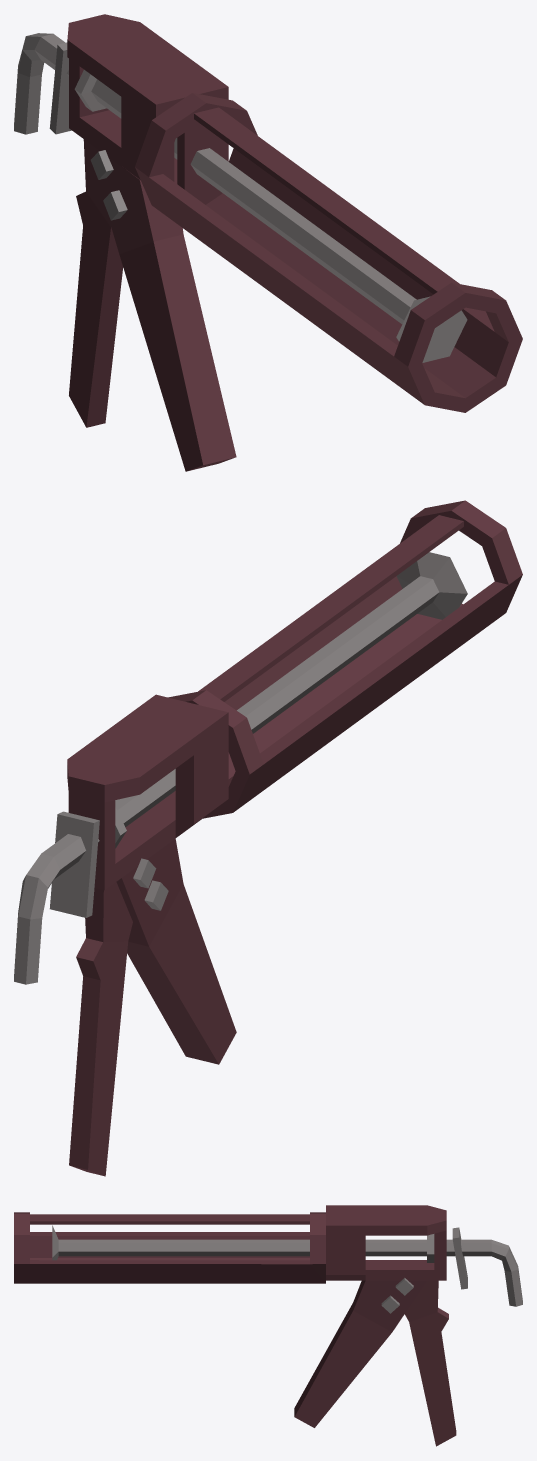
Rendered from caulking-gun.fbx.
3 renders of one model, top to bottom at view 1: azimuth 30°, elevation 25°; view 2: azimuth 150°, elevation 25°; view 3: azimuth 270°, elevation 25°, orthographic. The views are drawn at different scales.
Parts seen in each view (by area): view 1: caulking-gun; view 2: caulking-gun; view 3: caulking-gun.
Boxes of the visible parts, x1,y1,x2,y2 form: caulking-gun: (14,14,522,471); caulking-gun: (14,500,522,1176); caulking-gun: (14,1205,522,1446).
Bounding box in the file's own units: 0.0899 × 0.3013 × 0.6034.
